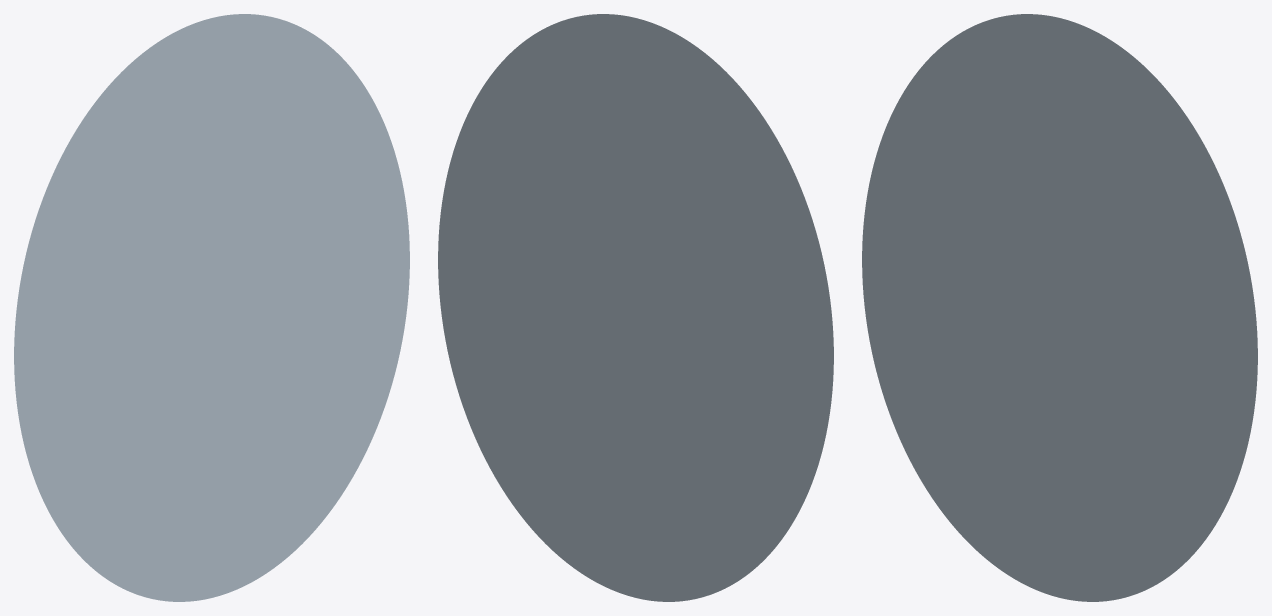
The model's file is Xiangling_PyronadoTrigger_SingleTarget_PyronadoSingleSweptSurface.fbx.
3 renders of one model, left to right at view 1: azimuth 30°, elevation 25°; view 2: azimuth 150°, elevation 25°; view 3: azimuth 330°, elevation 25°, orthographic.
Visible parts, largest first — view 1: PART_PyronadoSingleGroupSweepSurface; view 2: PART_PyronadoSingleGroupSweepSurface; view 3: PART_PyronadoSingleGroupSweepSurface.
Boxes of the visible parts, left/top/right/bottom form: PART_PyronadoSingleGroupSweepSurface: left=14, top=14, right=409, bottom=601; PART_PyronadoSingleGroupSweepSurface: left=438, top=14, right=833, bottom=601; PART_PyronadoSingleGroupSweepSurface: left=862, top=14, right=1257, bottom=601.
Size of the model in its own units: 160 by 224 by 3.65e-05.
